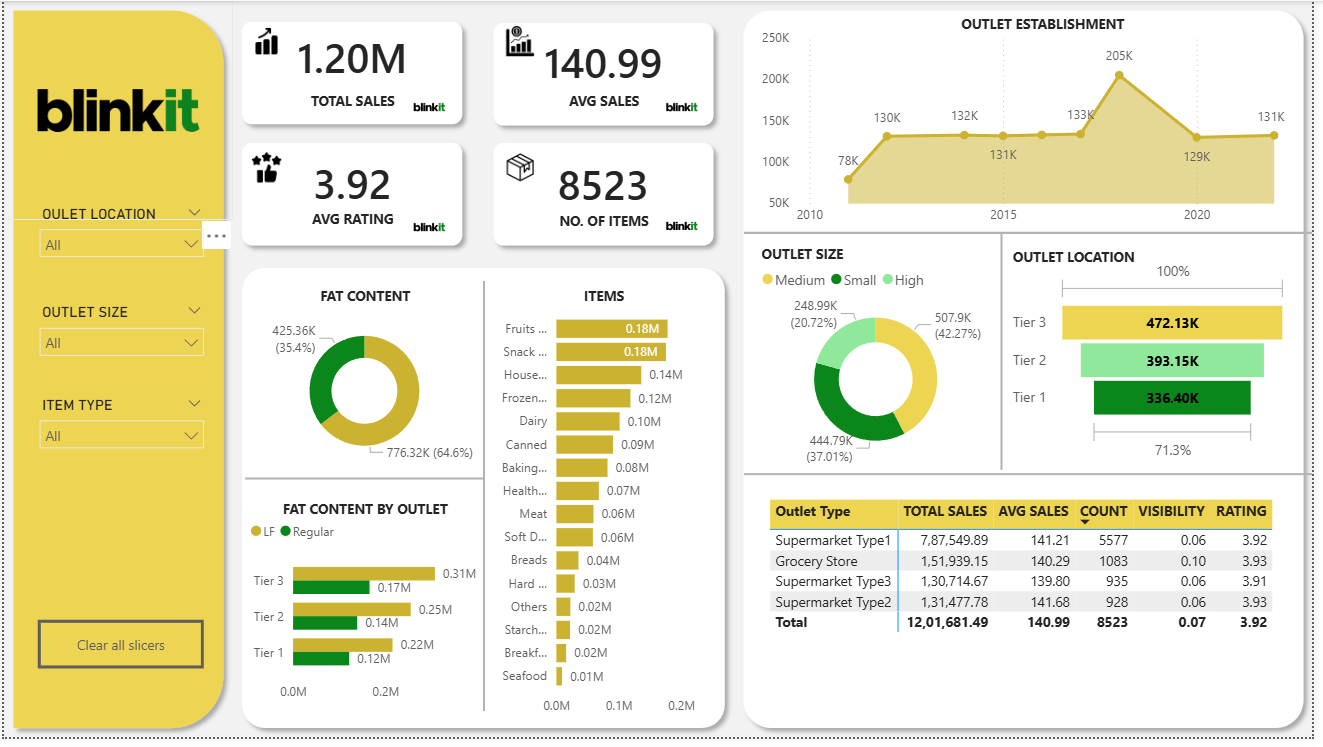

The page's visual inventory and layout, read from the dashboard file:
{"tool":"powerbi","page":{"name":"Page 1","canvas":[1280,720],"ordinal":0},"visuals":[{"type":"shape","box":[0,0,223.7,720.4],"z":0},{"type":"image","box":[0,0,223.7,214.1],"z":1000},{"type":"shape","box":[223.8,11,233.6,118.6],"z":2000},{"type":"shape","box":[223.8,251.9,490.4,468.3],"z":3000},{"type":"shape","box":[714.1,0,566.2,720.2],"z":4000},{"type":"shape","box":[223.8,129.6,233.6,118.6],"z":5000},{"type":"shape","box":[469.6,12.2,233.6,118.6],"z":6000},{"type":"shape","box":[469.6,129.6,233.6,118.6],"z":7000},{"type":"cardVisual","fields":{"Data":["Sum(BlinkIT Grocery Data.Sales)"]},"box":[256.8,15.9,168.8,74.6],"z":8000},{"type":"cardVisual","fields":{"Data":["Avg(BlinkIT Grocery Data.Sales)"]},"box":[484.2,15.9,204.2,83.2],"z":9000},{"type":"cardVisual","fields":{"Data":["Avg(BlinkIT Grocery Data.Rating)"]},"box":[256.8,139.4,168.8,74.6],"z":10000},{"type":"cardVisual","fields":{"Data":["CountNonNull(BlinkIT Grocery Data.Item Identifier)"]},"box":[484.2,135.7,204.2,83.2],"z":11000},{"type":"textbox","box":[264.1,83.2,154.1,30.6],"z":12000},{"type":"textbox","box":[509.9,83.2,154.1,30.6],"z":13000},{"type":"textbox","box":[264.1,199.3,154.1,30.6],"z":14000},{"type":"textbox","box":[509.9,200.5,154.1,30.6],"z":15000},{"type":"image","box":[375.4,83.2,81.9,41.6],"z":16000},{"type":"image","box":[622.4,83.2,81.9,41.6],"z":17000},{"type":"image","box":[375.4,200.5,81.9,41.6],"z":18000},{"type":"image","box":[622.4,199.3,81.9,41.6],"z":19000},{"type":"image","box":[236,24.5,41.6,29.3],"z":20000},{"type":"image","box":[484.2,24.5,41.6,29.3],"z":21000},{"type":"image","box":[240.9,148,31.8,29.3],"z":22000},{"type":"image","box":[484.2,148,41.6,29.3],"z":23000},{"type":"barChart","fields":{"Category":["BlinkIT Grocery Data.Item Type"],"Y":["Sum(BlinkIT Grocery Data.Sales)"]},"box":[469.6,289.8,233.6,418.2],"z":24000},{"type":"textbox","box":[509.9,273.9,154.1,30.6],"z":25000},{"type":"donutChart","fields":{"Category":["BlinkIT Grocery Data.Item Fat Content"],"Y":["Sum(BlinkIT Grocery Data.Sales)"]},"box":[236,304.5,233.6,154.1],"z":26000},{"type":"textbox","box":[276.4,273.9,154.1,30.6],"z":27000},{"type":"clusteredBarChart","fields":{"Y":["Sum(BlinkIT Grocery Data.Sales)"],"Series":["BlinkIT Grocery Data.Item Fat Content"],"Category":["BlinkIT Grocery Data.Outlet Location Type"]},"box":[236,498.9,245.8,195.7],"z":28000},{"type":"textbox","box":[262.9,483,181,30.6],"z":29000},{"type":"shape","box":[463.5,273.9,12.2,420.7],"z":30000},{"type":"shape","box":[236,458.6,234.8,17.1],"z":31000},{"type":"areaChart","fields":{"Category":["BlinkIT Grocery Data.Outlet Establishment Year"],"Y":["Sum(BlinkIT Grocery Data.Sales)"]},"box":[736.1,22,524.6,205.4],"z":32000},{"type":"textbox","box":[925.7,8.6,181,30.6],"z":33000},{"type":"donutChart","fields":{"Y":["Sum(BlinkIT Grocery Data.Sales)"],"Category":["BlinkIT Grocery Data.Outlet Size"]},"box":[736.1,251.9,233.6,206.7],"z":34000},{"type":"shape","box":[723.9,222.6,556.4,8.6],"z":35000},{"type":"textbox","box":[736.1,233.6,181,30.6],"z":36000},{"type":"shape","box":[969.7,227.4,12.2,231.1],"z":37000},{"type":"shape","box":[723.6,222.6,556.4,8.6],"z":38000},{"type":"shape","box":[723.9,458.6,556.4,8.6],"z":39000},{"type":"funnel","fields":{"Category":["BlinkIT Grocery Data.Outlet Location Type"],"Y":["Sum(BlinkIT Grocery Data.Sales)"]},"box":[981.9,248.2,278.8,206.7],"z":40000},{"type":"textbox","box":[981.9,236,181,30.6],"z":41000},{"type":"pivotTable","fields":{"Rows":["BlinkIT Grocery Data.Outlet Type"],"Values":["Sum(BlinkIT Grocery Data.Sales)","Avg(BlinkIT Grocery Data.Sales)","CountNonNull(BlinkIT Grocery Data.Item Identifier)","Avg(BlinkIT Grocery Data.Item Visibility)","Avg(BlinkIT Grocery Data.Rating)"]},"box":[744.7,483,506.3,146.7],"z":42000},{"type":"slicer","fields":{"Values":["BlinkIT Grocery Data.Outlet Location Type"]},"box":[24.5,194.4,181,69.7],"z":43000},{"type":"slicer","fields":{"Values":["BlinkIT Grocery Data.Outlet Size"]},"box":[24.5,291,181,69.7],"z":44000},{"type":"slicer","fields":{"Values":["BlinkIT Grocery Data.Item Type"]},"box":[24.5,381.5,181,69.7],"z":45000},{"type":"actionButton","box":[33,605.3,162.6,47.7],"z":46000}]}

Visuals, with their boxes in screenshot pixels (x1, y1, x2, y2), scaled from the page's 1280x720 canvas onto the 1323x747 screenshot:
shape: [left=0, top=0, right=231, bottom=746]
image: [left=0, top=0, right=231, bottom=222]
shape: [left=231, top=11, right=473, bottom=134]
shape: [left=231, top=261, right=738, bottom=746]
shape: [left=738, top=0, right=1322, bottom=746]
shape: [left=231, top=134, right=473, bottom=258]
shape: [left=485, top=13, right=727, bottom=136]
shape: [left=485, top=134, right=727, bottom=258]
cardVisual - Sum(BlinkIT Grocery Data.Sales): [left=265, top=16, right=440, bottom=94]
cardVisual - Avg(BlinkIT Grocery Data.Sales): [left=500, top=16, right=712, bottom=103]
cardVisual - Avg(BlinkIT Grocery Data.Rating): [left=265, top=145, right=440, bottom=222]
cardVisual - CountNonNull(BlinkIT Grocery Data.Item Identifier): [left=500, top=141, right=712, bottom=227]
textbox: [left=273, top=86, right=432, bottom=118]
textbox: [left=527, top=86, right=686, bottom=118]
textbox: [left=273, top=207, right=432, bottom=239]
textbox: [left=527, top=208, right=686, bottom=240]
image: [left=388, top=86, right=473, bottom=129]
image: [left=643, top=86, right=728, bottom=129]
image: [left=388, top=208, right=473, bottom=251]
image: [left=643, top=207, right=728, bottom=250]
image: [left=244, top=25, right=287, bottom=56]
image: [left=500, top=25, right=543, bottom=56]
image: [left=249, top=154, right=282, bottom=184]
image: [left=500, top=154, right=543, bottom=184]
barChart - BlinkIT Grocery Data.Item Type x Sum(BlinkIT Grocery Data.Sales): [left=485, top=301, right=727, bottom=735]
textbox: [left=527, top=284, right=686, bottom=316]
donutChart - BlinkIT Grocery Data.Item Fat Content x Sum(BlinkIT Grocery Data.Sales): [left=244, top=316, right=485, bottom=476]
textbox: [left=286, top=284, right=445, bottom=316]
clusteredBarChart - Sum(BlinkIT Grocery Data.Sales) x BlinkIT Grocery Data.Item Fat Content: [left=244, top=518, right=498, bottom=721]
textbox: [left=272, top=501, right=459, bottom=533]
shape: [left=479, top=284, right=492, bottom=721]
shape: [left=244, top=476, right=487, bottom=494]
areaChart - BlinkIT Grocery Data.Outlet Establishment Year x Sum(BlinkIT Grocery Data.Sales): [left=761, top=23, right=1303, bottom=236]
textbox: [left=957, top=9, right=1144, bottom=41]
donutChart - Sum(BlinkIT Grocery Data.Sales) x BlinkIT Grocery Data.Outlet Size: [left=761, top=261, right=1002, bottom=476]
shape: [left=748, top=231, right=1322, bottom=240]
textbox: [left=761, top=242, right=948, bottom=274]
shape: [left=1002, top=236, right=1015, bottom=476]
shape: [left=748, top=231, right=1322, bottom=240]
shape: [left=748, top=476, right=1322, bottom=485]
funnel - BlinkIT Grocery Data.Outlet Location Type x Sum(BlinkIT Grocery Data.Sales): [left=1015, top=258, right=1303, bottom=472]
textbox: [left=1015, top=245, right=1202, bottom=277]
pivotTable - BlinkIT Grocery Data.Outlet Type x Sum(BlinkIT Grocery Data.Sales): [left=770, top=501, right=1293, bottom=653]
slicer - BlinkIT Grocery Data.Outlet Location Type: [left=25, top=202, right=212, bottom=274]
slicer - BlinkIT Grocery Data.Outlet Size: [left=25, top=302, right=212, bottom=374]
slicer - BlinkIT Grocery Data.Item Type: [left=25, top=396, right=212, bottom=468]
actionButton: [left=34, top=628, right=202, bottom=677]
